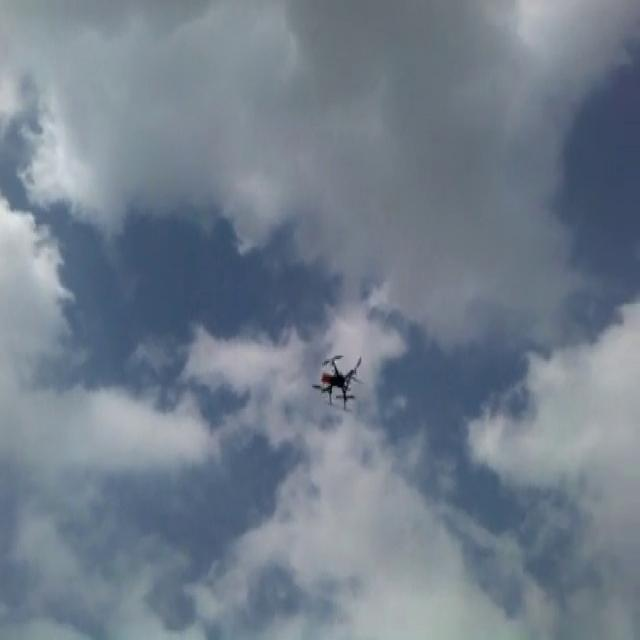drone: (309, 350, 364, 411)
